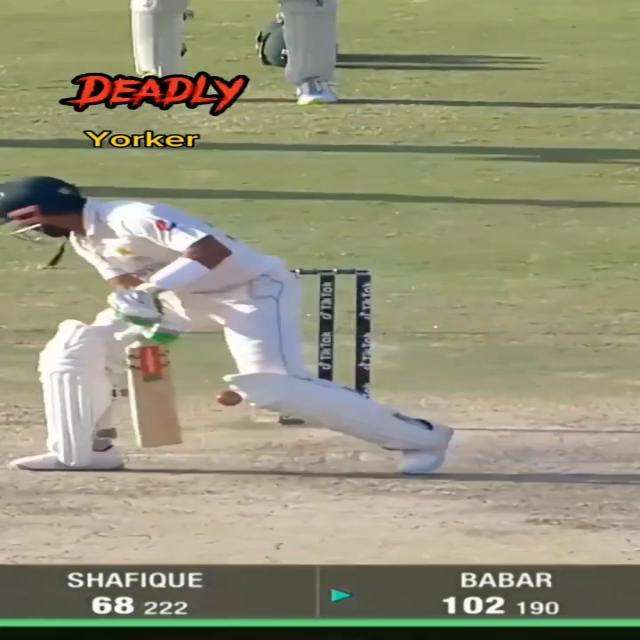Cricket ball: (214, 388, 244, 408)
